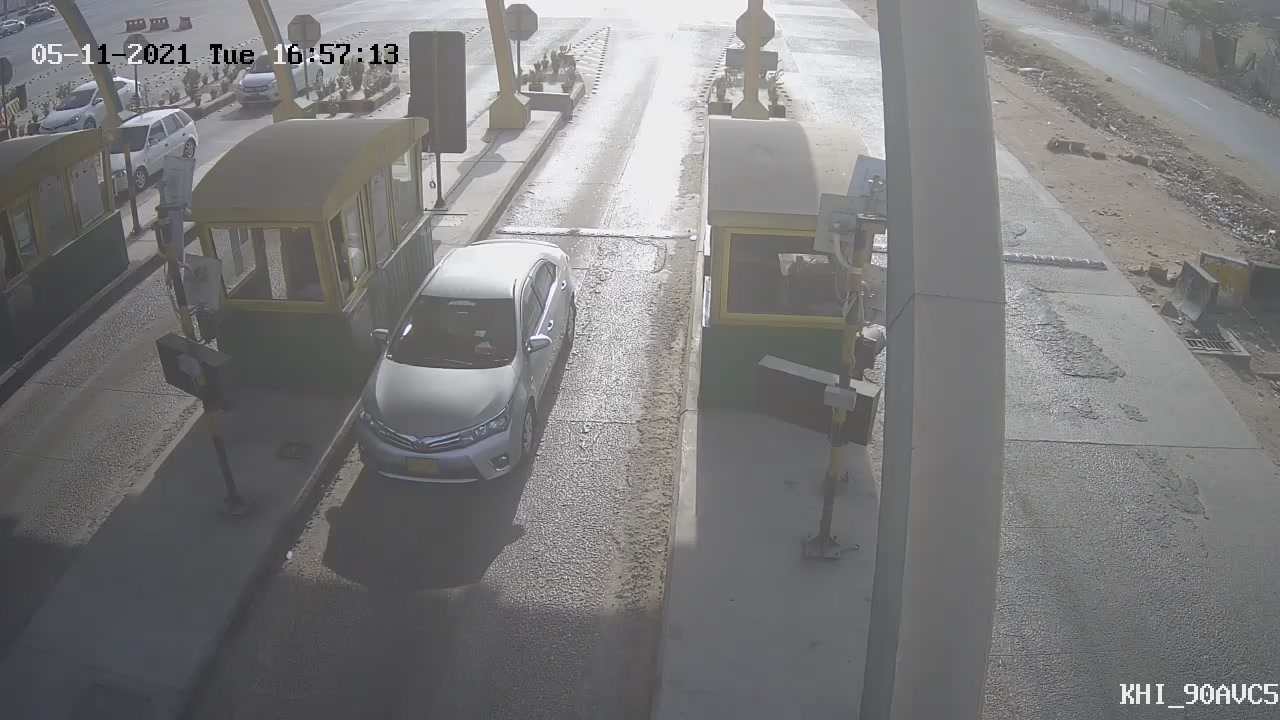F1: (338, 220, 596, 507)
